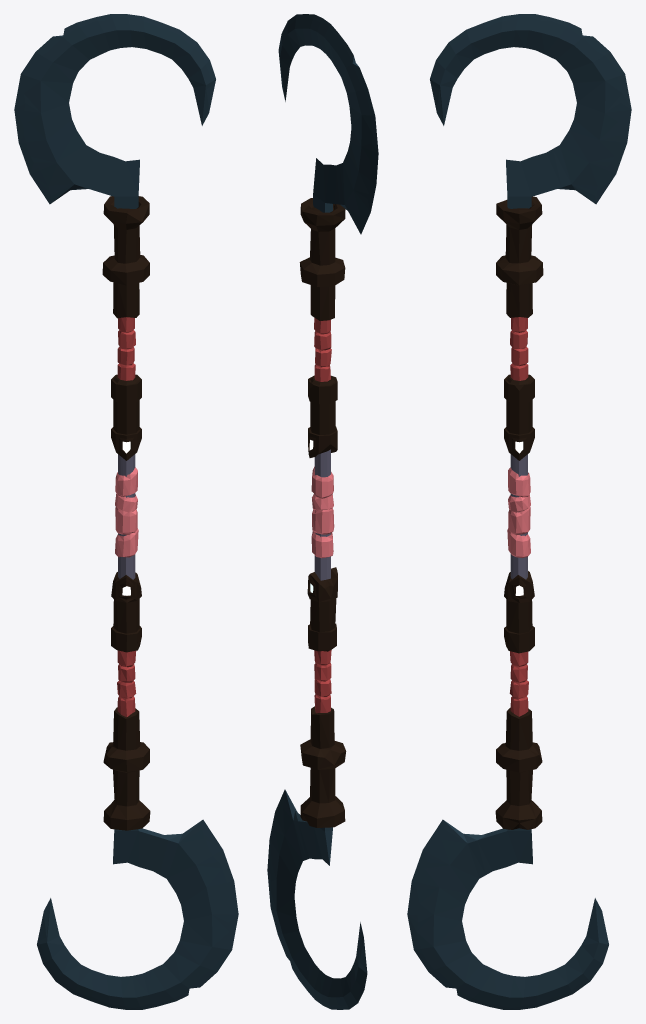
Rendered from SFFA_Weapon_Spear_Gold_005.fbx.
The picture shows the model from 3 angles, left to right: view 1: azimuth 90°, elevation 25°; view 2: azimuth 210°, elevation 25°; view 3: azimuth 270°, elevation 25°; orthographic projection.
Parts seen in each view (by area): view 1: SFFA_Weapon_Spear_Gold_005; view 2: SFFA_Weapon_Spear_Gold_005; view 3: SFFA_Weapon_Spear_Gold_005.
Boxes of the visible parts, bbox=[...] form: SFFA_Weapon_Spear_Gold_005: bbox=[14, 14, 238, 1009]; SFFA_Weapon_Spear_Gold_005: bbox=[267, 14, 378, 1009]; SFFA_Weapon_Spear_Gold_005: bbox=[407, 14, 631, 1009].
Bounding box in the file's own units: 8.09 × 186 × 38.04.
